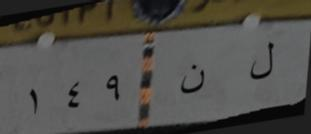1: (25, 87, 43, 118)
4: (65, 78, 83, 115)
9: (102, 72, 128, 110)
laam: (246, 37, 276, 91)
noon: (178, 61, 208, 100)
